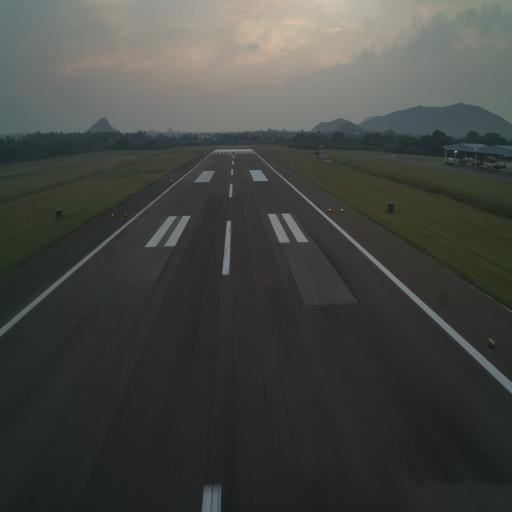on: (487, 334, 496, 348), (341, 206, 344, 213), (124, 212, 128, 217), (328, 208, 332, 212), (111, 212, 114, 217)
